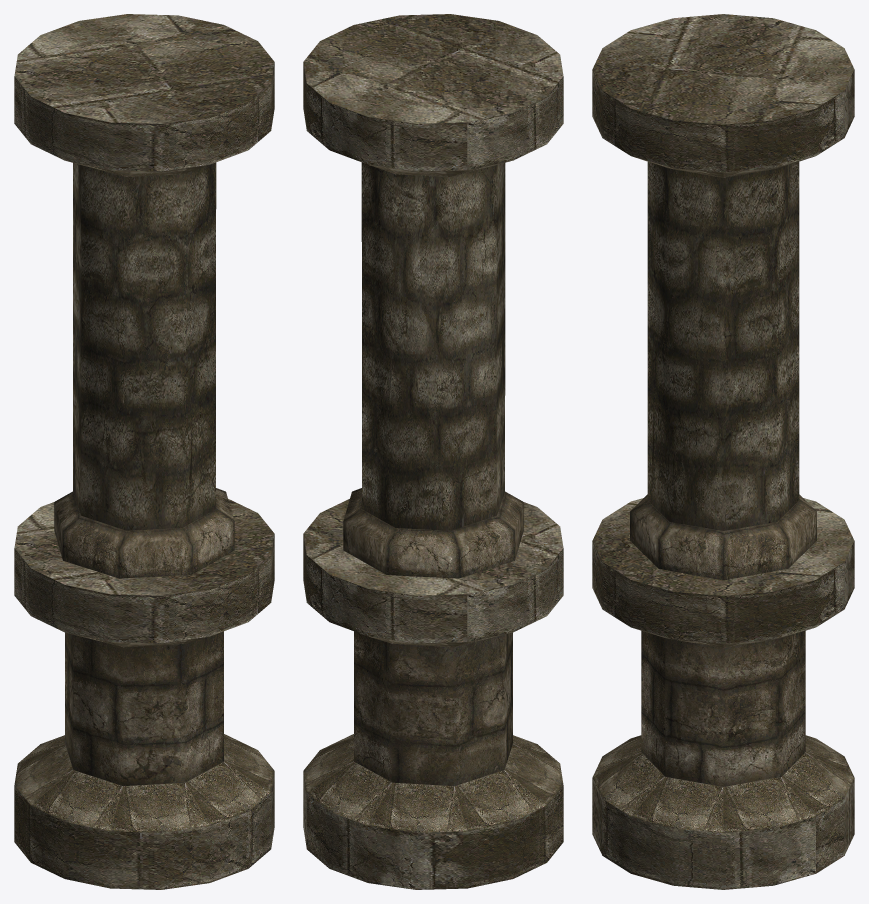
Rendered from welder_convex_worn.dae.
3 views of the same model, side by side, from view 1: azimuth 30°, elevation 25°; view 2: azimuth 150°, elevation 25°; view 3: azimuth 270°, elevation 25° (orthographic).
Parts seen in each view (by area): view 1: Cylinder001; view 2: Cylinder001; view 3: Cylinder001.
Boxes of the visible parts, <box> form: Cylinder001: <box>14,14,274,889</box>; Cylinder001: <box>303,14,563,889</box>; Cylinder001: <box>592,14,854,889</box>.
Size of the model in its own units: 1.24 by 4 by 1.24.
